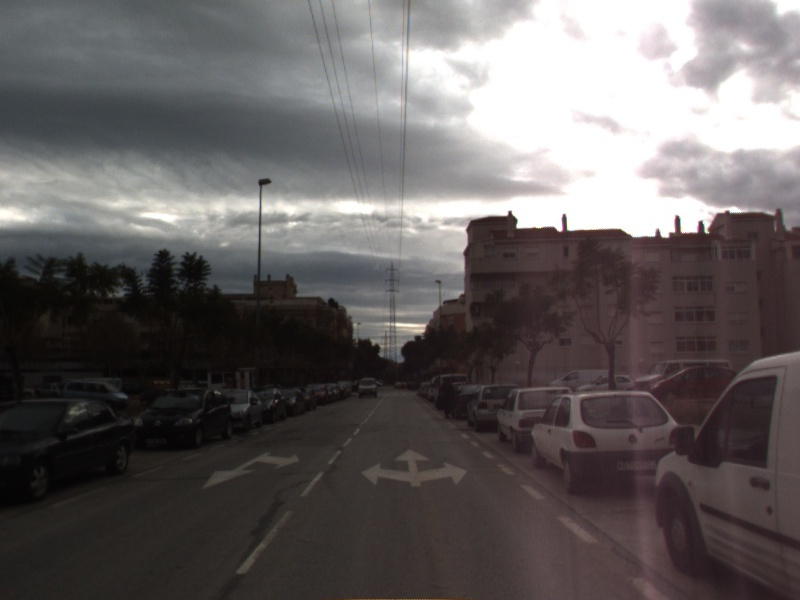STRAIGHT_LEFT_RIGHT: (359, 446, 470, 489)
